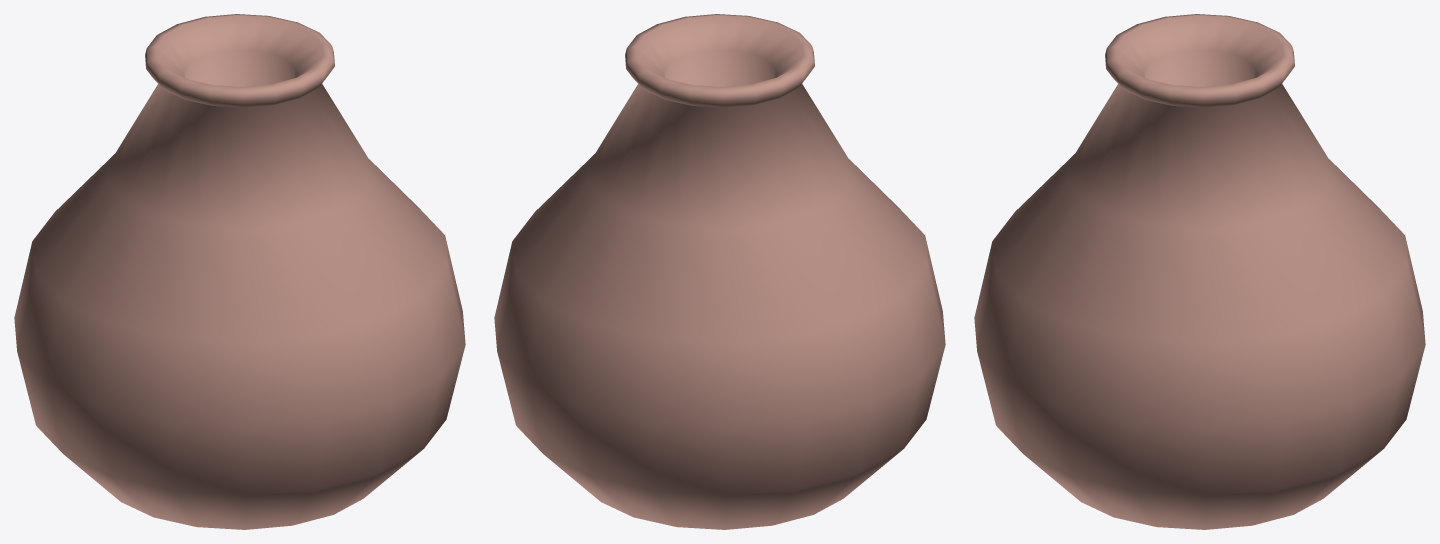
Rendered from round_clay_vase.glb.
3 views of the same model, side by side, from view 1: azimuth 30°, elevation 25°; view 2: azimuth 150°, elevation 25°; view 3: azimuth 270°, elevation 25° (orthographic).
Visible parts, largest first — view 1: Vase_01; view 2: Vase_01; view 3: Vase_01.
Boxes of the visible parts, bbox=[...] form: Vase_01: bbox=[14, 14, 465, 529]; Vase_01: bbox=[494, 14, 945, 529]; Vase_01: bbox=[974, 14, 1425, 529].
Size of what is drawn, in the model's own units: 1.18 by 1.19 by 1.16.
